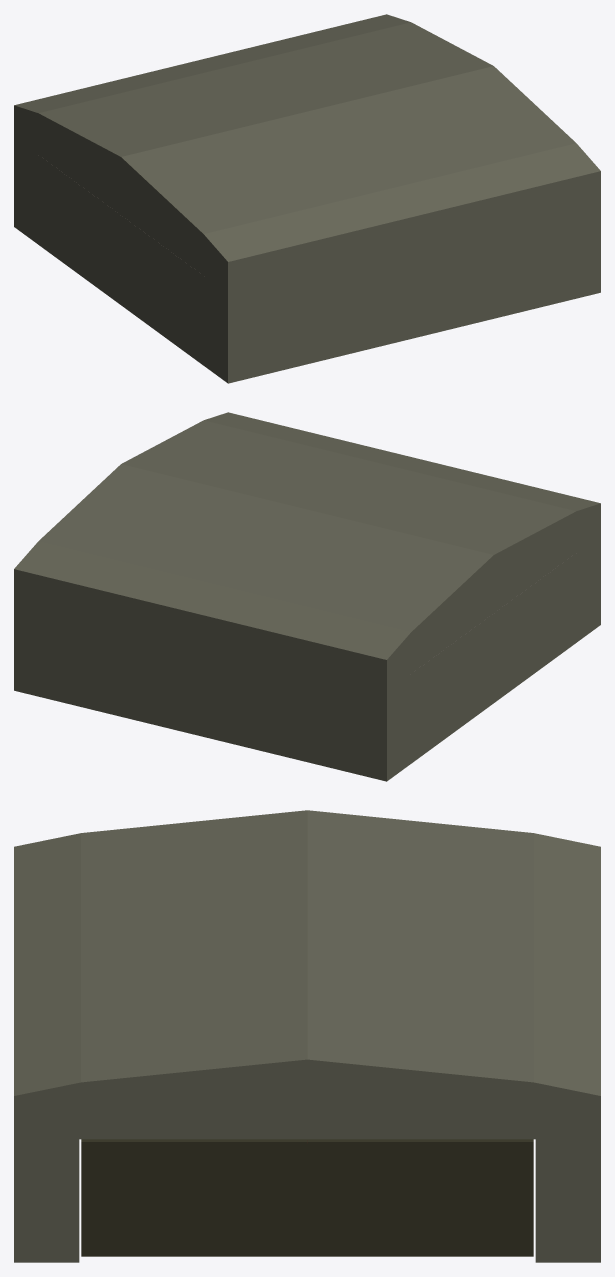
File: HangarwDoor.fbx
The picture shows the model from 3 angles, top to bottom: view 1: azimuth 30°, elevation 25°; view 2: azimuth 150°, elevation 25°; view 3: azimuth 270°, elevation 25°; orthographic projection. The views are drawn at different scales.
Visible parts, largest first — view 1: Hangar; view 2: Hangar; view 3: Hangar, Door.
Part boxes in pixels (box(x1,y1,x2,y2)): Hangar: box(14, 14, 600, 383); Hangar: box(14, 412, 600, 781); Hangar: box(14, 810, 600, 1262); Door: box(81, 1139, 533, 1256).
Bounding box in the file's own units: 1740 × 661 × 1731.
